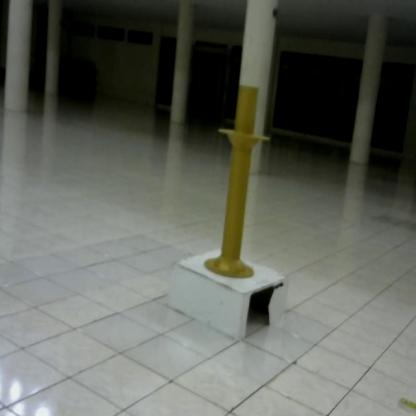pole: (201, 82, 275, 282)
